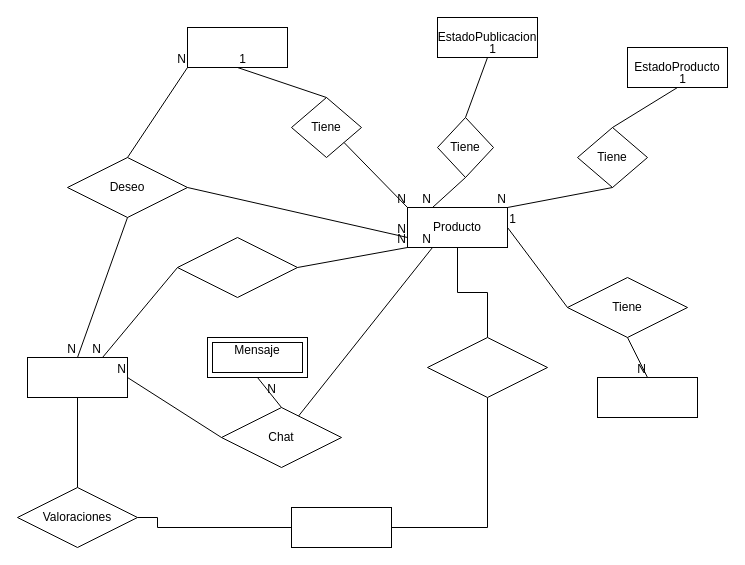
Some shapes in this 745 by 565 pixel diagram are drawn without their labels. The box of each missing label's shape, as (x1, y1, x2, y2) in pixels:
Categoria: (186, 26, 288, 68)
Favorito: (176, 236, 298, 298)
Imagen_prod: (596, 376, 698, 418)
Intercambio_detalle: (426, 336, 548, 398)
Transacciones: (290, 506, 392, 548)
Usuario: (26, 356, 128, 398)
